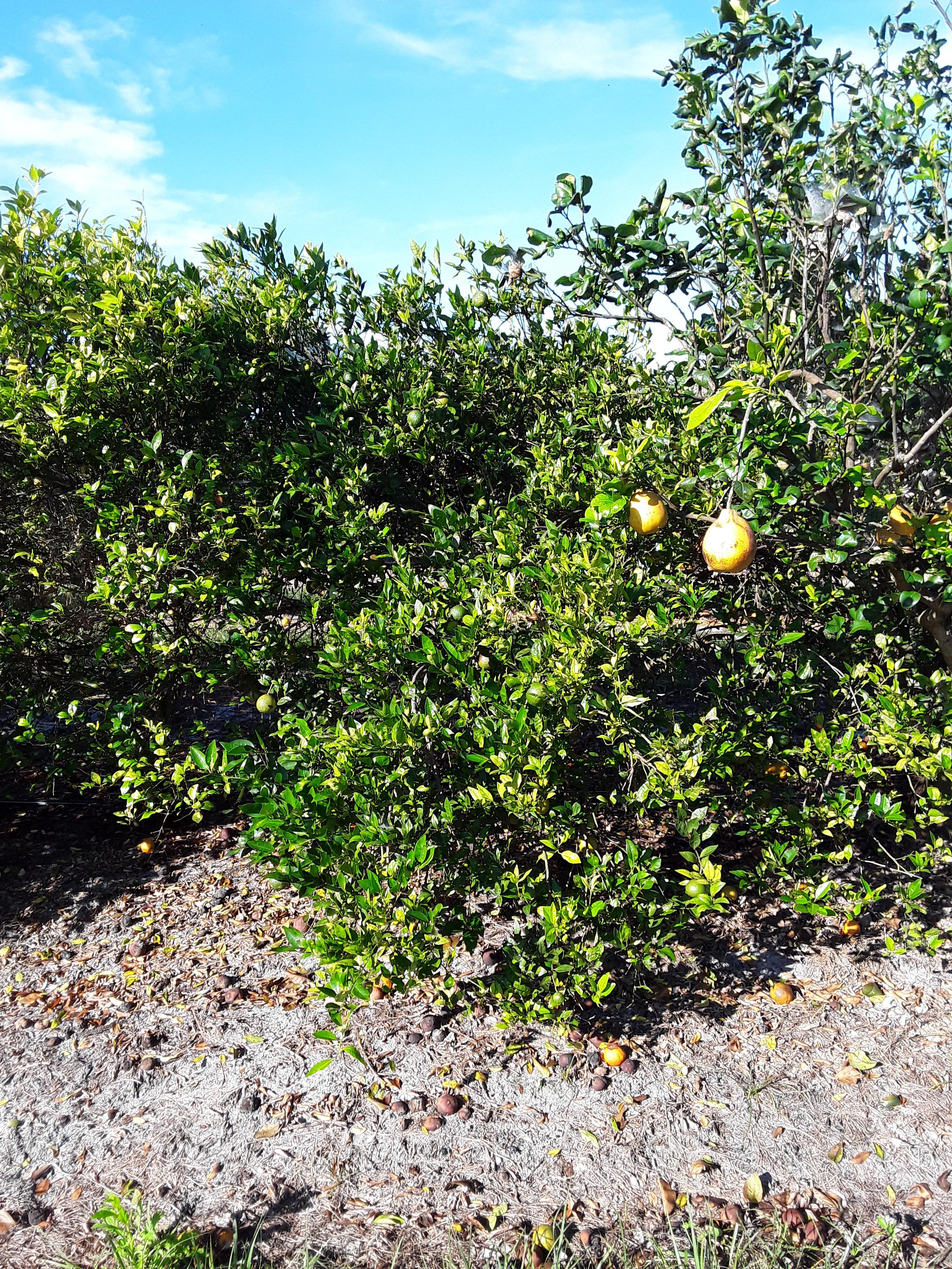fruit_on_ground: (696, 507, 760, 576), (872, 502, 923, 551), (622, 486, 669, 537), (919, 500, 952, 553), (525, 680, 551, 708), (476, 649, 500, 672), (683, 876, 707, 899), (255, 692, 278, 715), (469, 290, 489, 310), (406, 409, 425, 428), (341, 369, 357, 385), (277, 614, 292, 629)
fruit_on_tree: (511, 1237, 548, 1269), (800, 1218, 830, 1248), (529, 1221, 557, 1252), (779, 1205, 808, 1232), (600, 1041, 628, 1068), (768, 979, 795, 1007), (717, 1203, 746, 1229), (432, 1090, 460, 1116), (415, 1012, 444, 1034), (839, 916, 864, 938), (553, 1048, 576, 1071), (371, 973, 395, 995), (418, 1113, 443, 1134), (480, 947, 504, 968), (134, 835, 158, 856), (389, 1096, 414, 1116), (718, 883, 740, 905), (221, 986, 245, 1004), (127, 941, 149, 960), (618, 1056, 638, 1076), (688, 1156, 709, 1175), (589, 1074, 610, 1093), (364, 984, 385, 1002), (213, 972, 232, 990), (138, 1055, 157, 1071), (219, 825, 237, 841)
